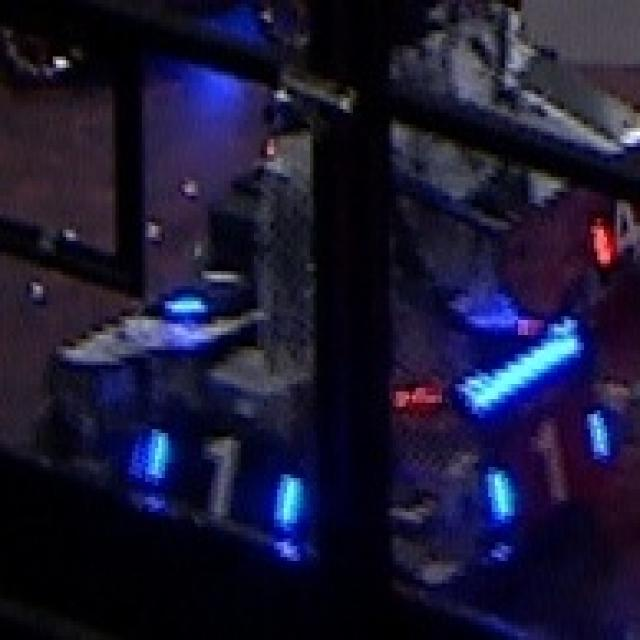B1: (134, 416, 308, 540), (482, 406, 624, 520)
